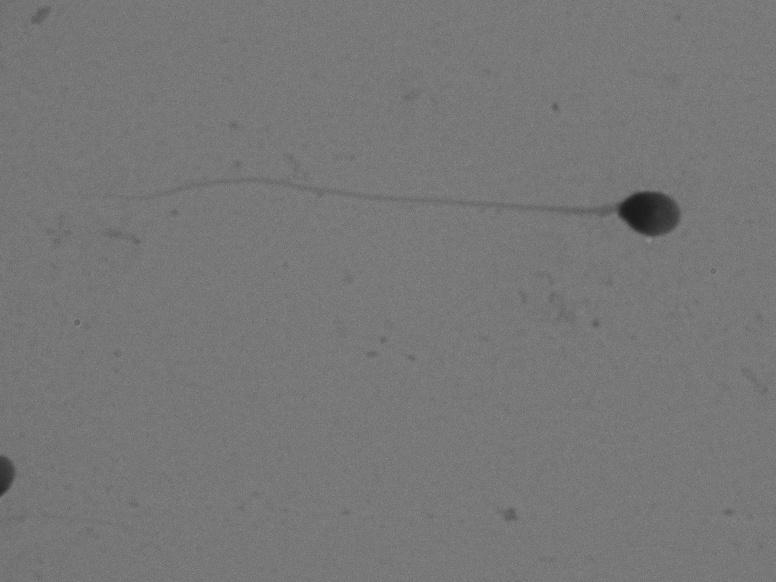Normal: (52, 151, 695, 259)
